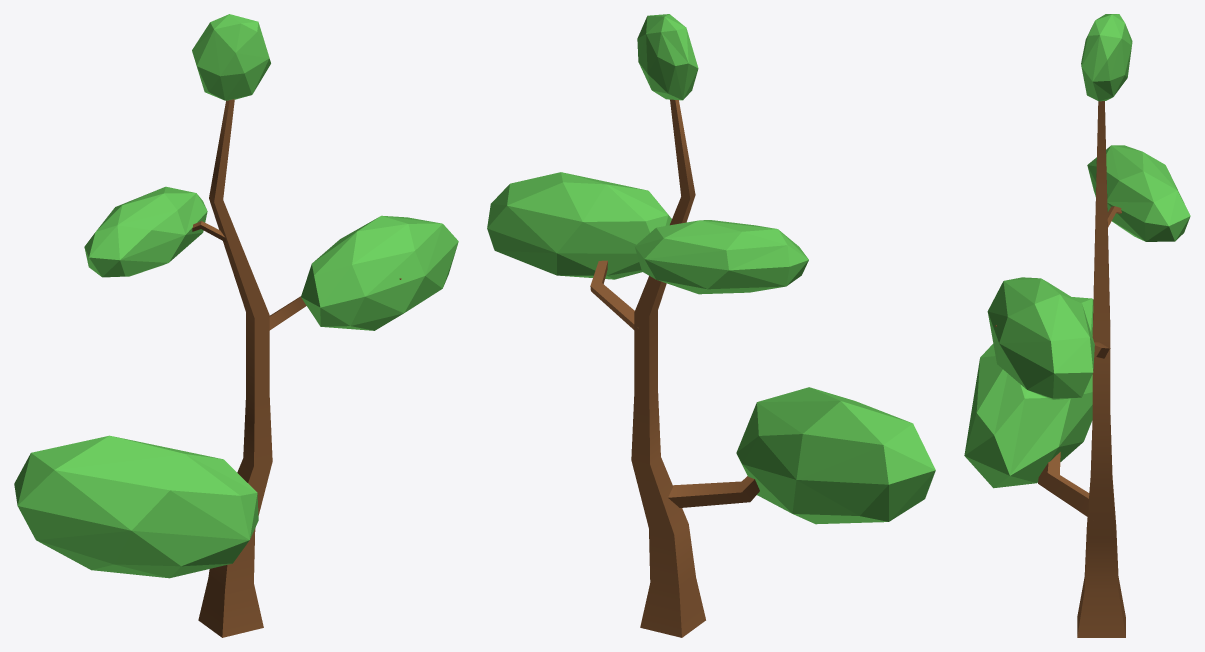
Rendered from derevo.fbx.
The picture shows the model from 3 angles, left to right: view 1: azimuth 30°, elevation 25°; view 2: azimuth 150°, elevation 25°; view 3: azimuth 270°, elevation 25°; orthographic projection.
Visible parts, largest first — view 1: Sphere_2, Sphere, Cube, Sphere_1, Sphere_3; view 2: Sphere_2, Sphere, Cube, Sphere_1, Sphere_3, Sweep_3, Sweep_2; view 3: Cube, Sphere_2, Sphere, Sphere_1, Sphere_3, Sweep_3.
Boxes of the visible parts, bbox=[...] form: Sphere_2: bbox=[14, 435, 258, 578]; Sphere: bbox=[301, 215, 458, 330]; Cube: bbox=[198, 99, 272, 637]; Sphere_1: bbox=[84, 186, 207, 277]; Sphere_3: bbox=[192, 14, 270, 100]; Sphere_2: bbox=[736, 387, 935, 524]; Sphere: bbox=[487, 172, 671, 279]; Cube: bbox=[631, 99, 705, 637]; Sphere_1: bbox=[634, 220, 808, 294]; Sphere_3: bbox=[637, 14, 698, 100]; Sweep_3: bbox=[668, 476, 759, 507]; Sweep_2: bbox=[590, 260, 638, 329]; Cube: bbox=[1077, 101, 1125, 637]; Sphere_2: bbox=[964, 297, 1093, 488]; Sphere: bbox=[987, 277, 1094, 399]; Sphere_1: bbox=[1087, 145, 1190, 241]; Sphere_3: bbox=[1081, 14, 1132, 101]; Sweep_3: bbox=[1038, 452, 1089, 516].
Bounding box in the file's own units: 2123 × 2783 × 928.
